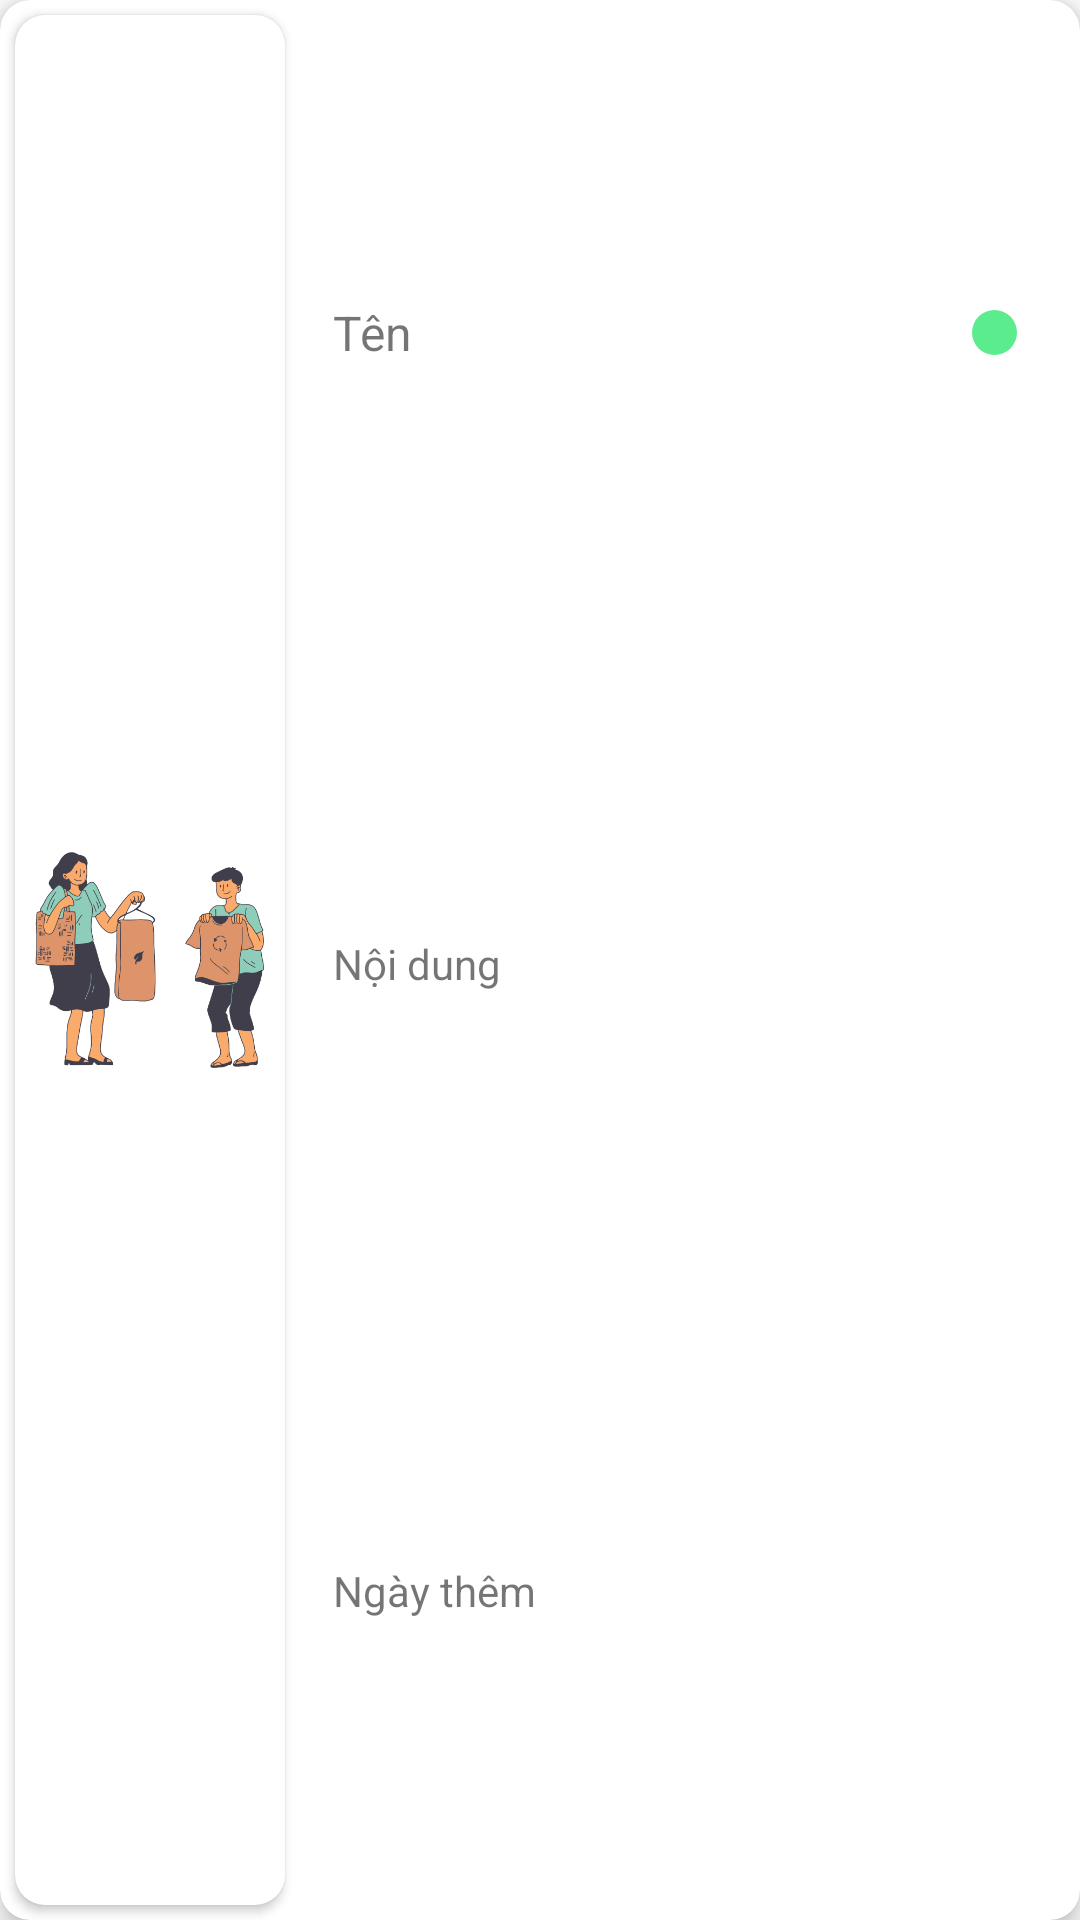

Icon click points for this 1080x1920 phone screenshot, format [x,y]:
status online: [994,332]
